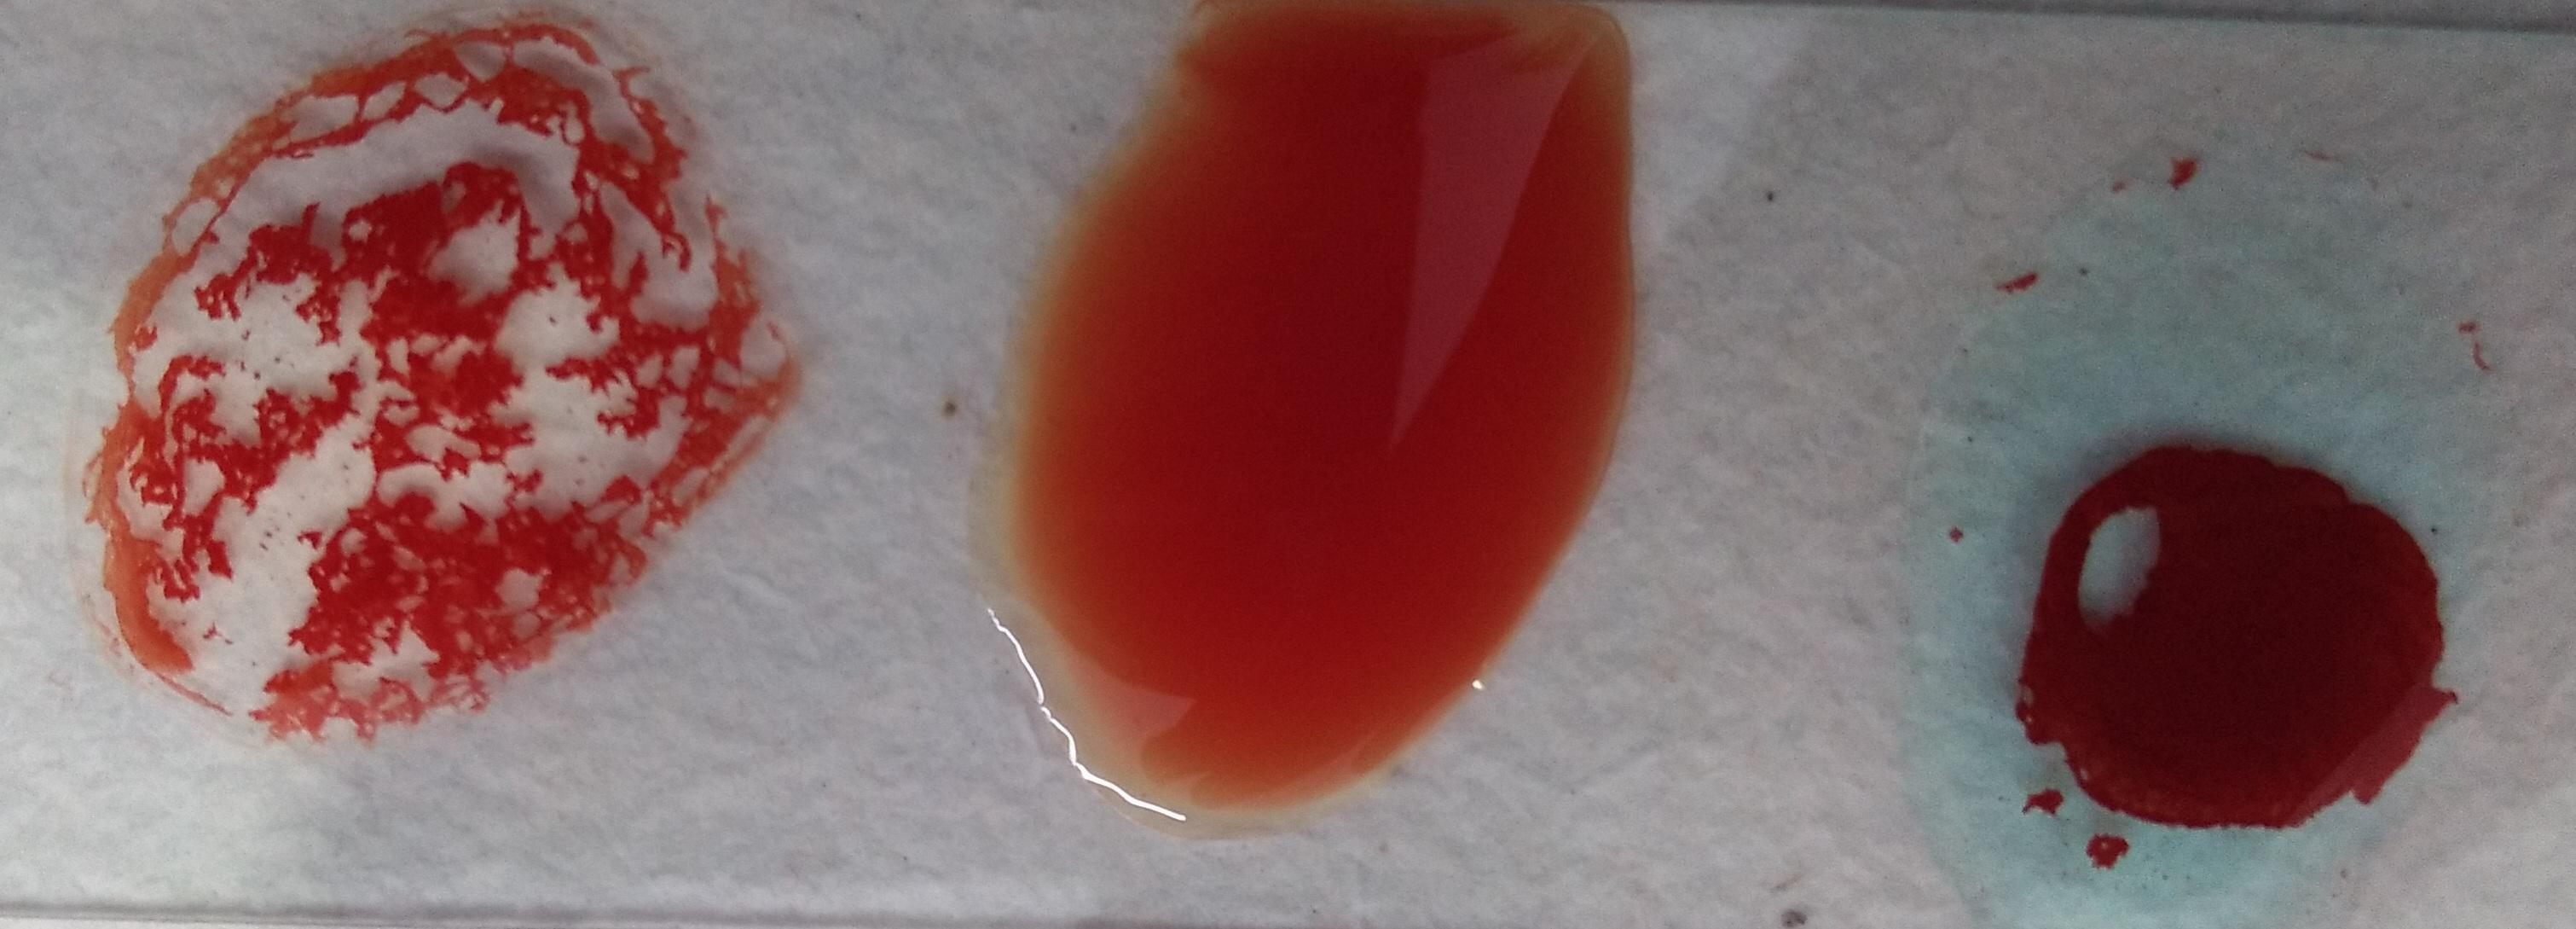A: (1899, 123, 2497, 894)
D: (125, 10, 708, 743)
